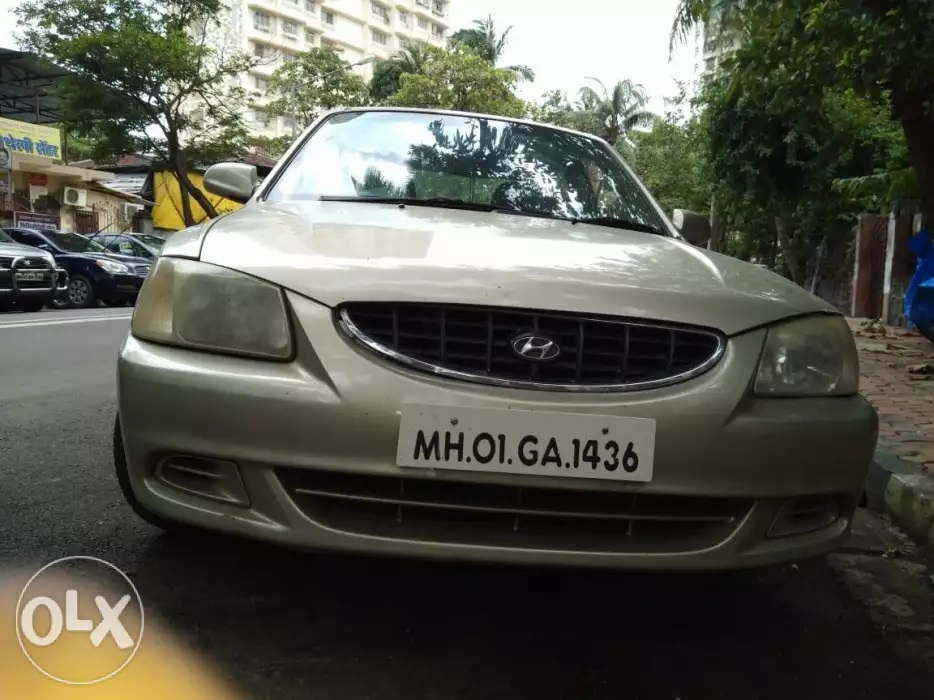licenseplate: (390, 398, 660, 484)
